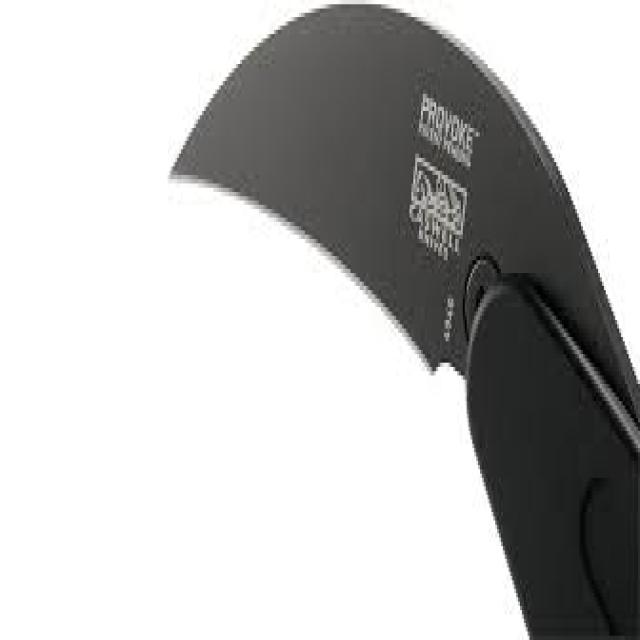knives: (166, 0, 638, 636)
